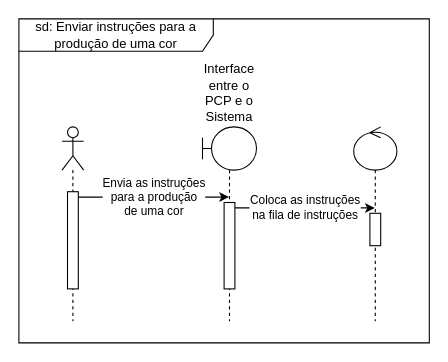
The diagram is 448 pixels wide and 362 high, and some of its shapes have lost their labels. Each missing label, with the centre of its shape:
Controlador de Produção de Cor: the point at 375,223
Sistema de Planejamento de Produção (PCP): the point at 72,223
